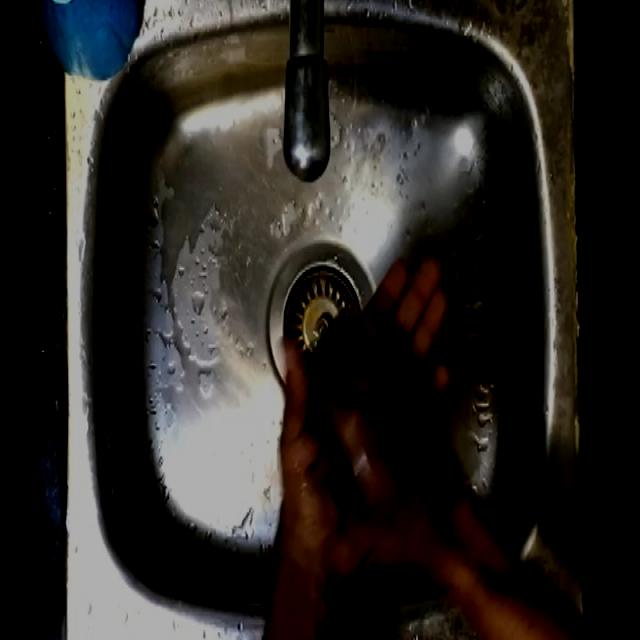step_5: (272, 247, 453, 580)
